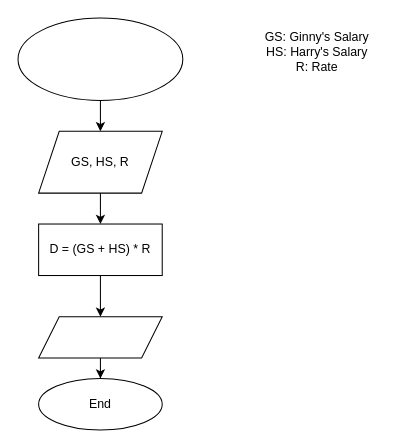
This 397x448 diagram has some shape labels left out. The centre of each missing label's shape, as x and y in pixels:
"Output(D)" goes at (100,337).
"Start" goes at (100,58).
